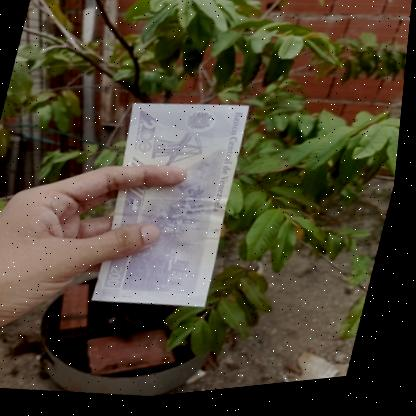two_hundred-back-vef: (86, 92, 260, 322)
